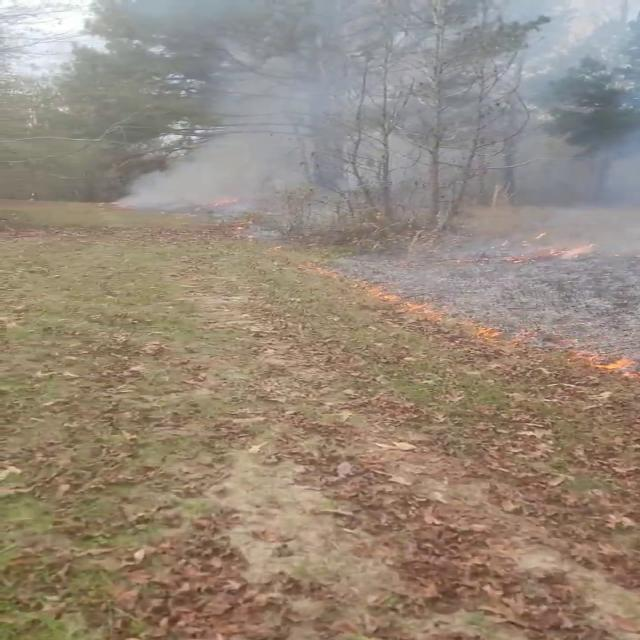Smoke: (105, 0, 640, 248)
